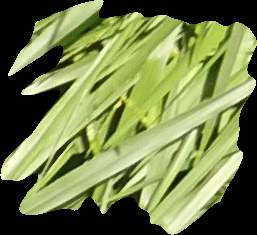grass: (1, 1, 256, 233)
